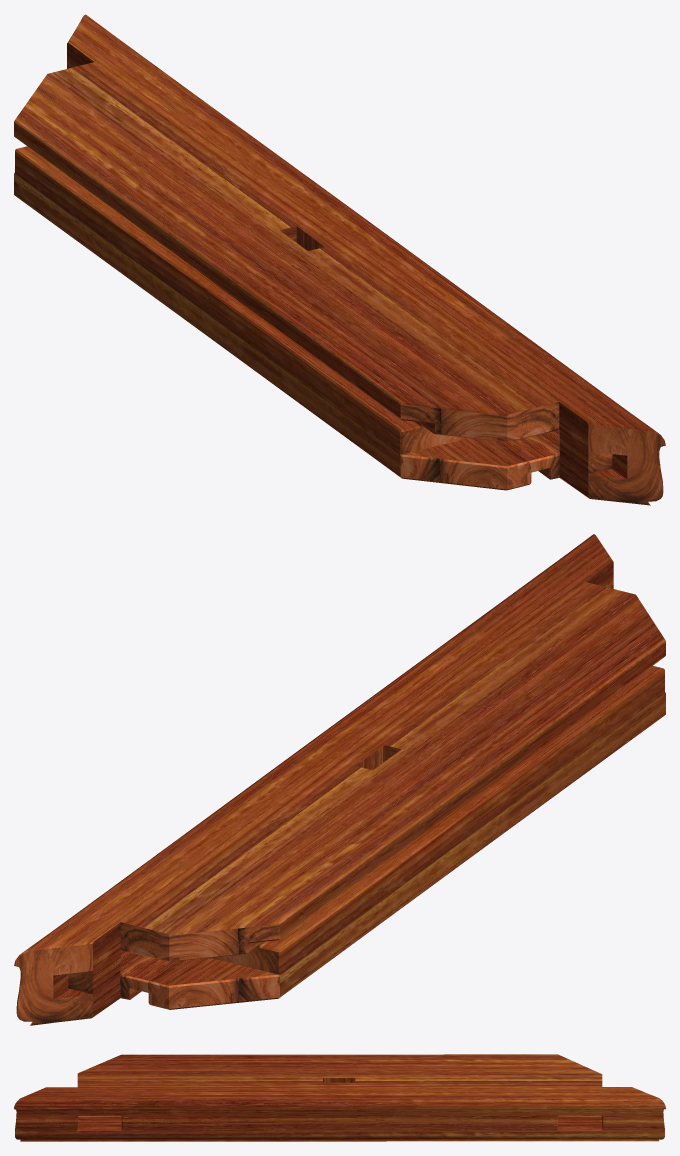
File: quanyi_J_motou_you.FBX
3 renders of one model, top to bottom at view 1: azimuth 30°, elevation 25°; view 2: azimuth 150°, elevation 25°; view 3: azimuth 270°, elevation 25°, orthographic. The views are drawn at different scales.
Visible parts, largest first — view 1: quanyi_J_motou_you; view 2: quanyi_J_motou_you; view 3: quanyi_J_motou_you.
Boxes of the visible parts, x1=… form: quanyi_J_motou_you: x1=14, y1=14, x2=665, y2=505; quanyi_J_motou_you: x1=14, y1=534, x2=665, y2=1025; quanyi_J_motou_you: x1=14, y1=1054, x2=665, y2=1141.
Size of the model in its own units: 8.18 by 3.51 by 47.91.
Materials: 2 (2 with a texture image).
